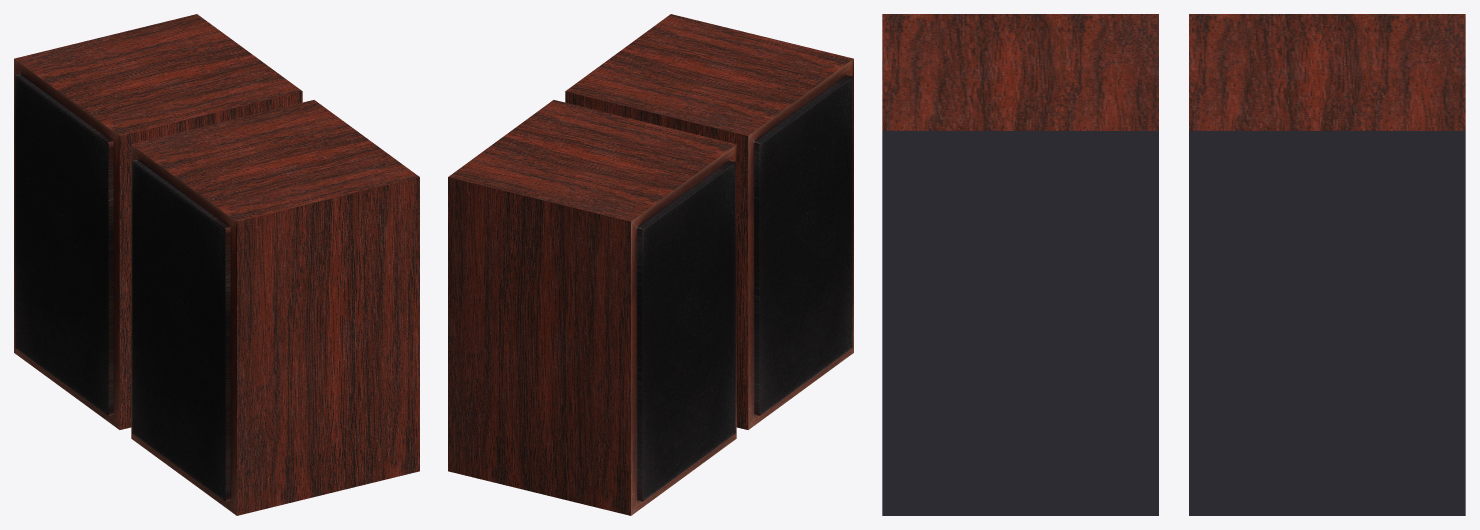
Rendered from D7C9363D-A9E8-442C-A705-ED7C1806CEE2.dae.
The picture shows the model from 3 angles, left to right: view 1: azimuth 30°, elevation 25°; view 2: azimuth 150°, elevation 25°; view 3: azimuth 270°, elevation 25°; orthographic projection. The views are drawn at different scales.
Visible parts, largest first — view 1: Acoustic_2-0_wood; view 2: Acoustic_2-0_wood; view 3: Acoustic_2-0_wood.
Boxes of the visible parts, x1,y1,x2,y2 form: Acoustic_2-0_wood: (14, 14, 419, 515); Acoustic_2-0_wood: (448, 14, 853, 515); Acoustic_2-0_wood: (882, 14, 1465, 515).
Size of the model in its own units: 0.0863 by 0.1302 by 0.1771.
Materials: 3 (3 with a texture image).
